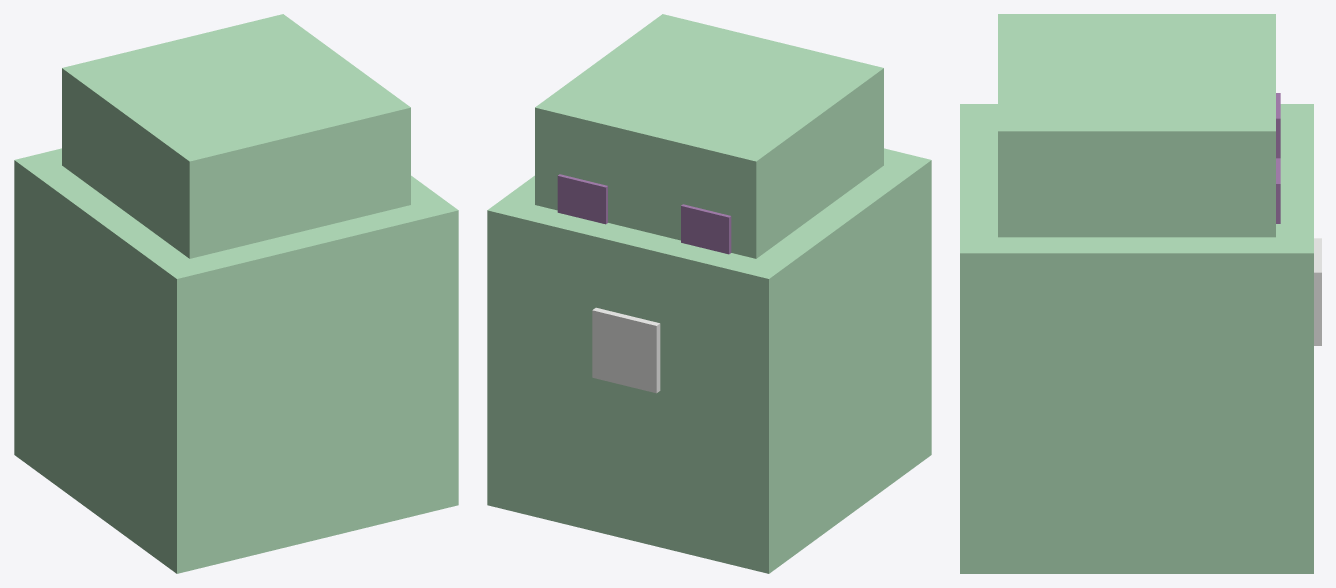
File: ember_mob_slime_00.glb
The picture shows the model from 3 angles, left to right: view 1: azimuth 30°, elevation 25°; view 2: azimuth 150°, elevation 25°; view 3: azimuth 270°, elevation 25°; orthographic projection. The views are drawn at different scales.
Parts seen in each view (by area): view 1: ember_mob_slime_00; view 2: ember_mob_slime_00; view 3: ember_mob_slime_00.
Boxes of the visible parts, x1,y1,x2,y2 form: ember_mob_slime_00: (14, 14, 458, 573); ember_mob_slime_00: (487, 14, 931, 573); ember_mob_slime_00: (960, 14, 1321, 573).
Bounding box in the file's own units: 0.686 × 0.9125 × 0.7014.
